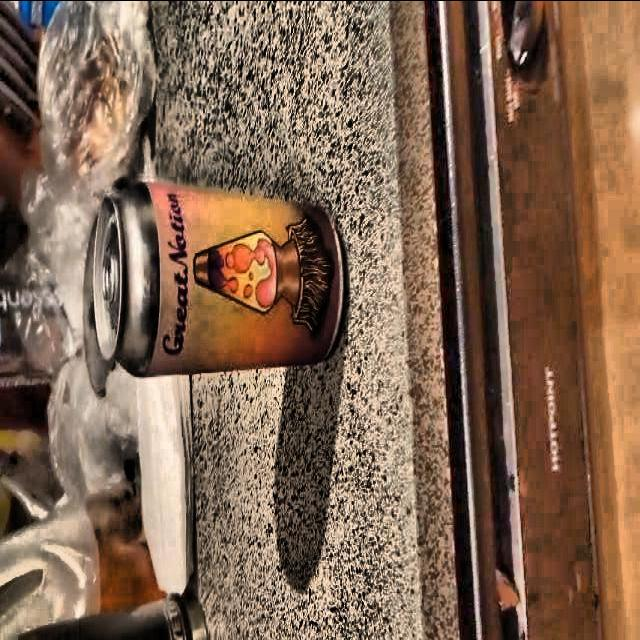litter: (80, 177, 356, 385)
